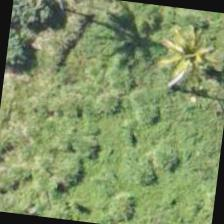Kelapa_Sawit: (118, 2, 218, 96)
